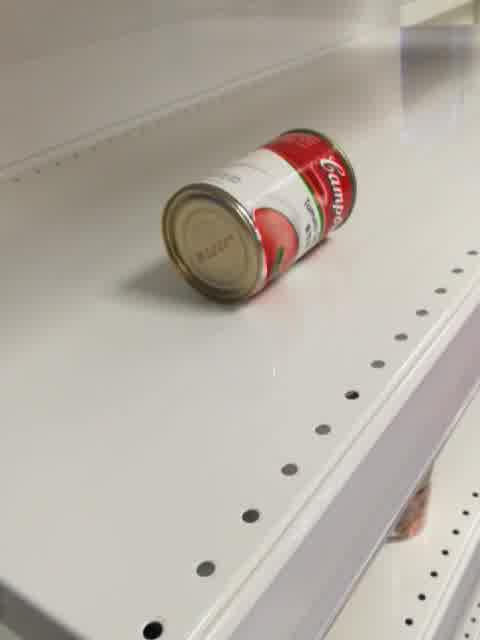tomatosoup: (160, 128, 358, 304)
